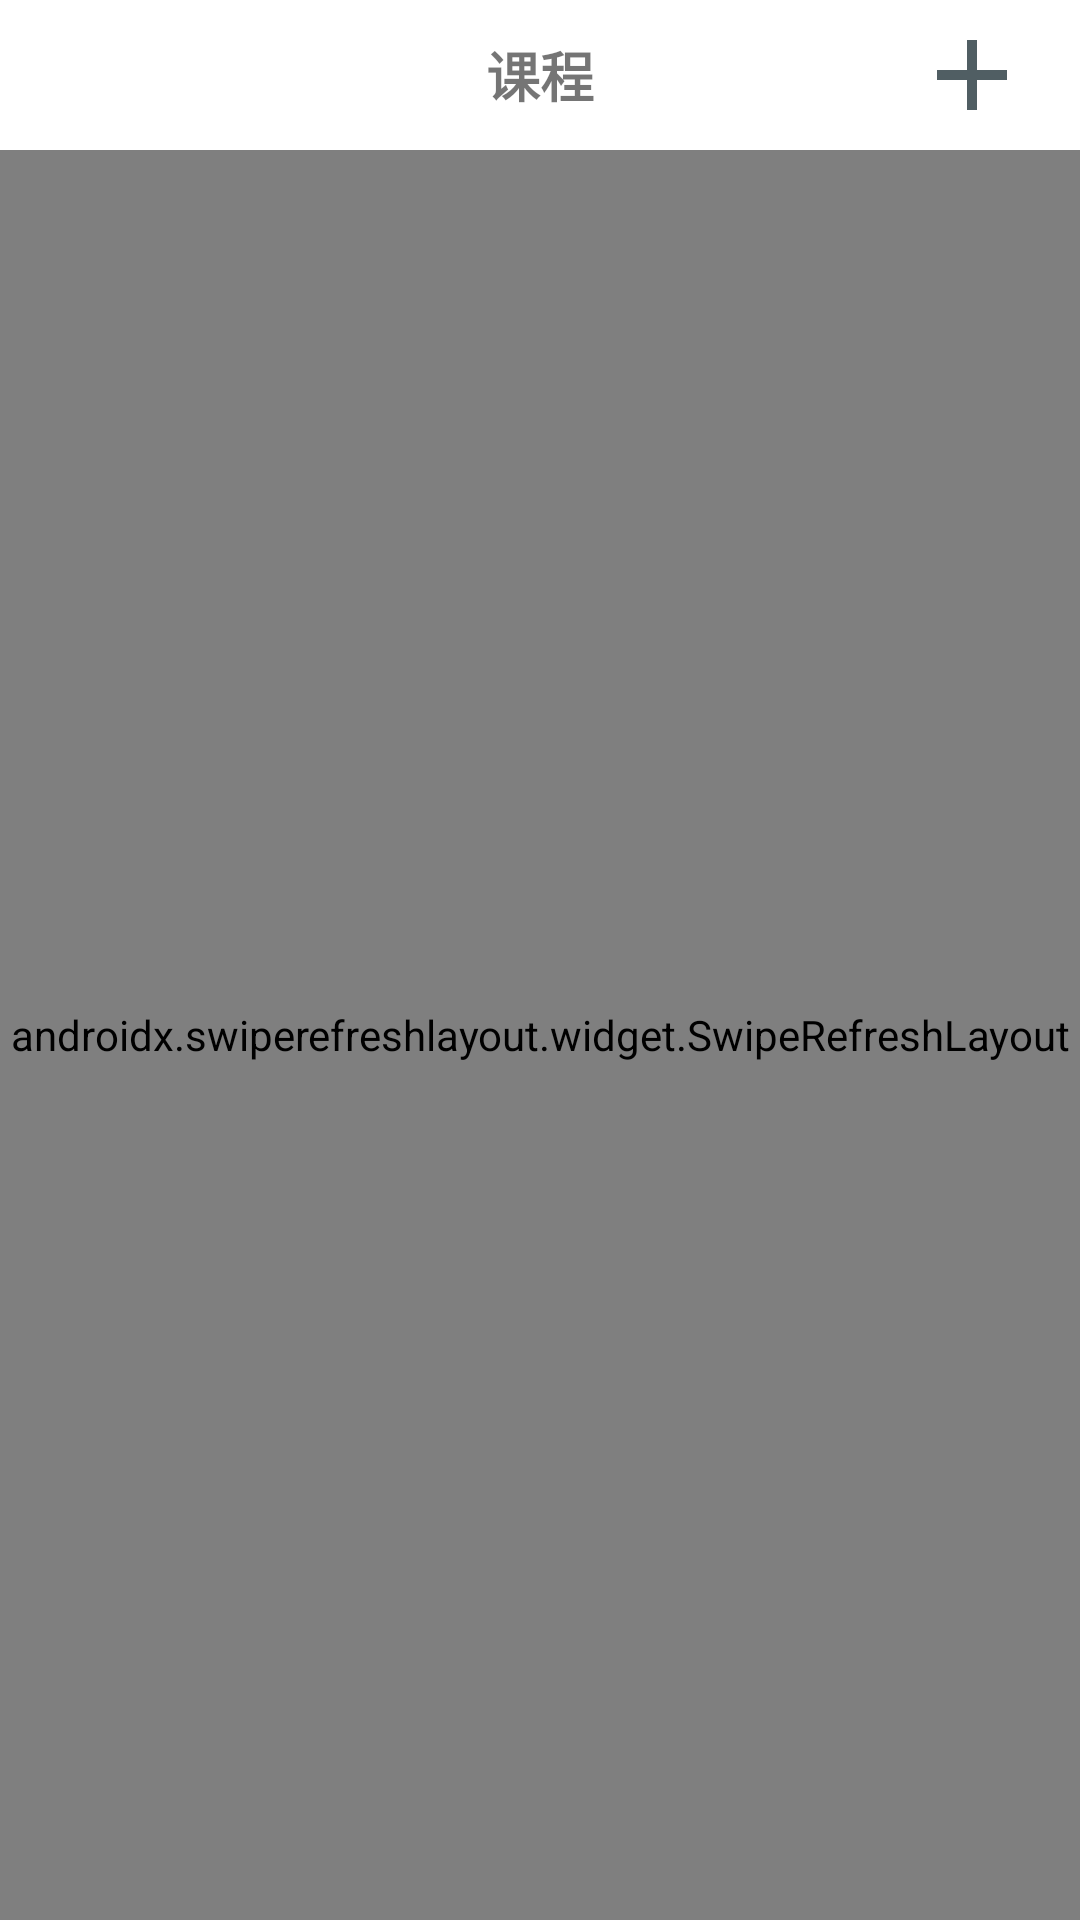

Named icons in this screenshot (1080px x 1920px) and their bounding boxes, box(x1, y1, x2, y2):
add: box(937, 40, 1007, 110)
